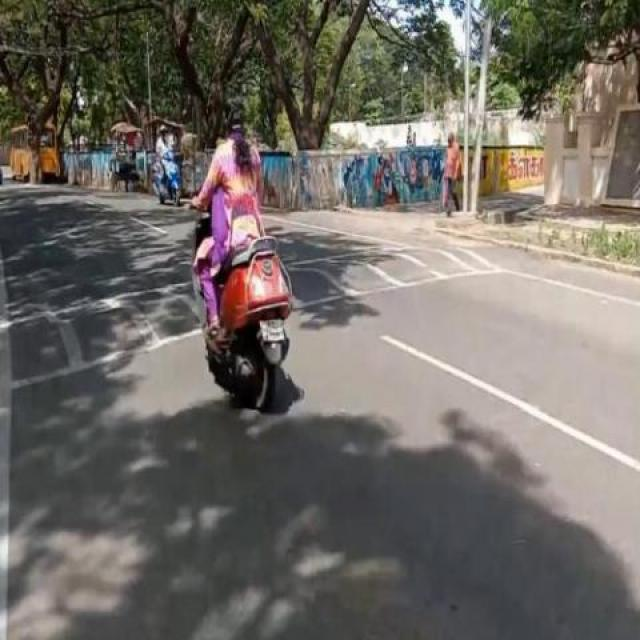Speed Bump: (0, 280, 205, 404), (286, 243, 506, 308)
